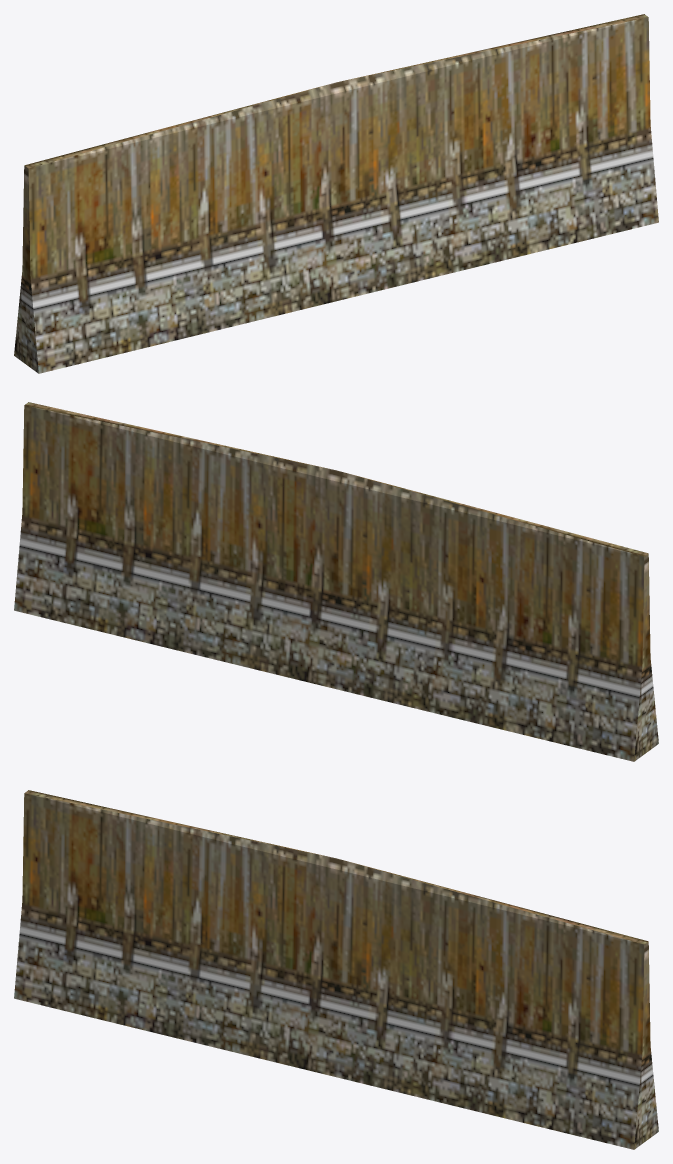
The model's file is idle.glb.
3 renders of one model, top to bottom at view 1: azimuth 30°, elevation 25°; view 2: azimuth 150°, elevation 25°; view 3: azimuth 330°, elevation 25°, orthographic.
Parts seen in each view (by area): view 1: MeshRoot; view 2: MeshRoot; view 3: MeshRoot.
Part boxes in pixels (x1,y1,x2,y2): MeshRoot: [14, 14, 658, 373]; MeshRoot: [14, 402, 658, 761]; MeshRoot: [14, 790, 658, 1149].
Size of the model in its own units: 10.19 by 3.25 by 0.707.
2 materials, 2 textured.
